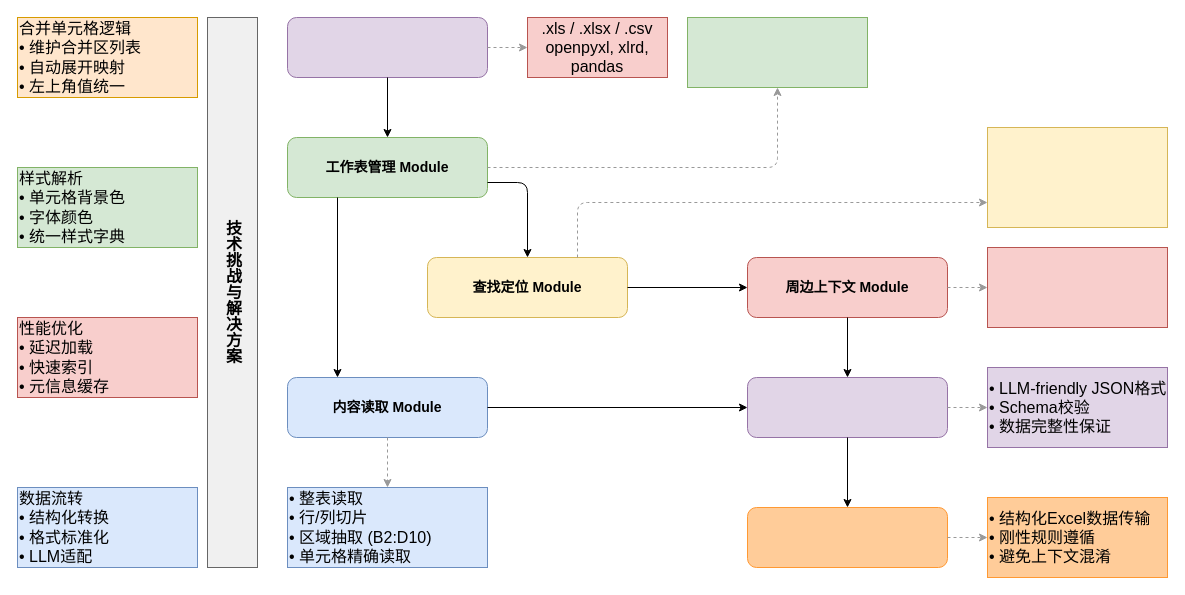
Image size: 1185x595. Some labels were removed from this diagram. The box of each missing label's shape, as (x1, y1, x2, y2) in pixels:
LLM 交互 Layer: (746, 506, 948, 568)
• 按半径提取邻居单元格 • 处理合并单元格 • 自动填充空白逻辑: (986, 246, 1168, 328)
• 智能提取sheet名称 • 缓存元数据信息 • 识别隐藏/保护工作表: (686, 16, 868, 88)
• 精确匹配 • 部分匹配 • 正则表达式匹配 • 快速索引优化: (986, 126, 1168, 228)
文件加载 Layer: (286, 16, 488, 78)
格式化输出 Module: (746, 376, 948, 438)
